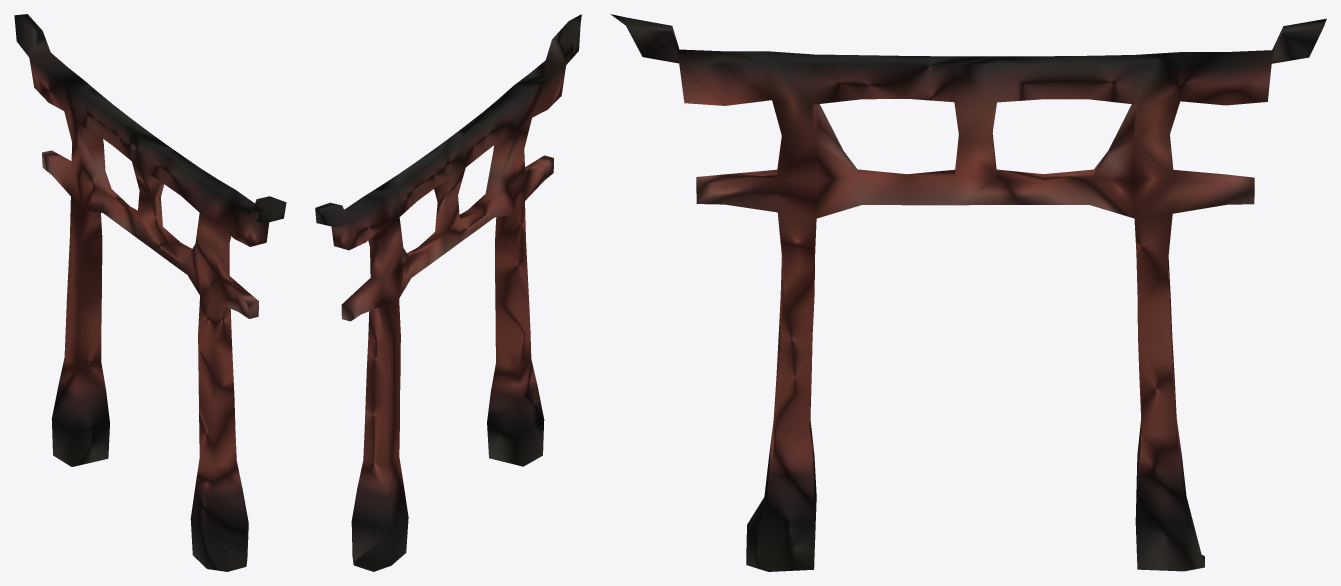
The model's file is torii.2.glb.
3 views of the same model, side by side, from view 1: azimuth 30°, elevation 25°; view 2: azimuth 150°, elevation 25°; view 3: azimuth 270°, elevation 25° (orthographic). The views are drawn at different scales.
Parts seen in each view (by area): view 1: lod; view 2: lod; view 3: lod.
Part boxes in pixels (x1,y1,x2,y2): lod: [14, 14, 286, 571]; lod: [315, 14, 581, 571]; lod: [610, 14, 1326, 571].
Size of the model in its own units: 0.086 by 0.8257 by 0.9793.
